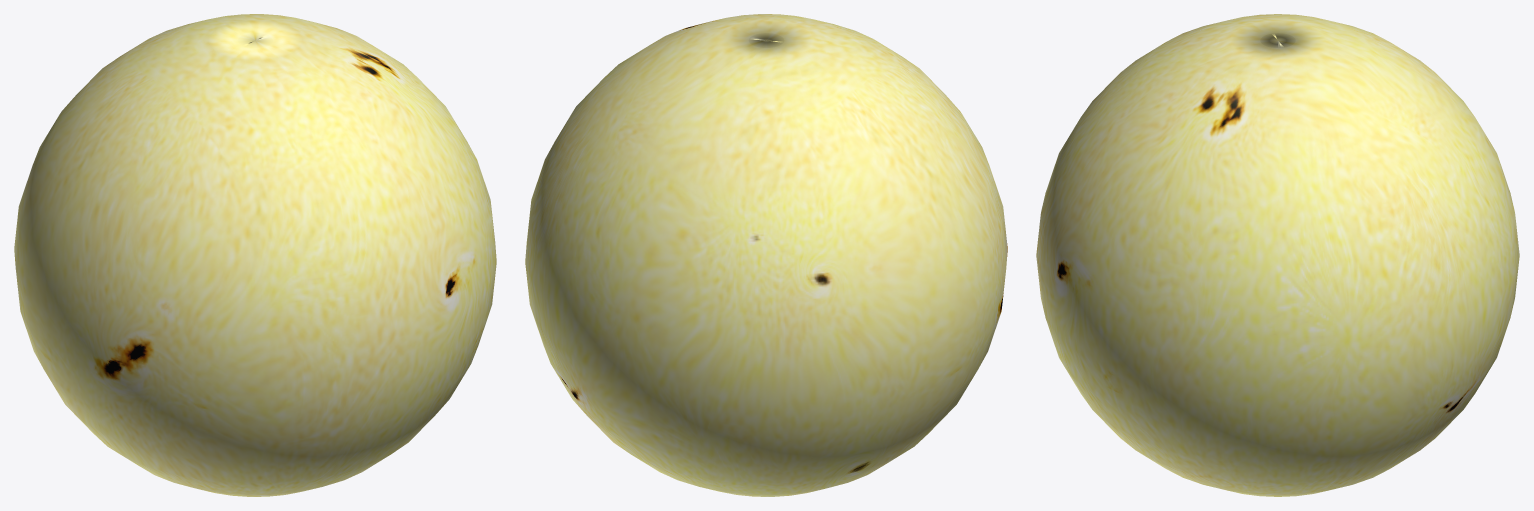
Rendered from sun.obj.
3 renders of one model, left to right at view 1: azimuth 30°, elevation 25°; view 2: azimuth 150°, elevation 25°; view 3: azimuth 270°, elevation 25°, orthographic.
Visible parts, largest first — view 1: Sun; view 2: Sun; view 3: Sun.
Boxes of the visible parts, x1,y1,x2,y2 form: Sun: (14,14,496,496); Sun: (525,14,1007,496); Sun: (1036,14,1519,496).
Bounding box in the file's own units: 2 × 1.96 × 2.
